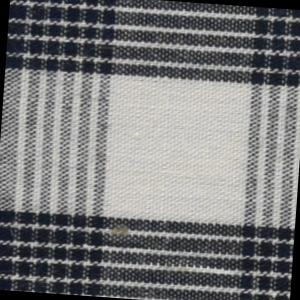Stain: (111, 223, 131, 239)
